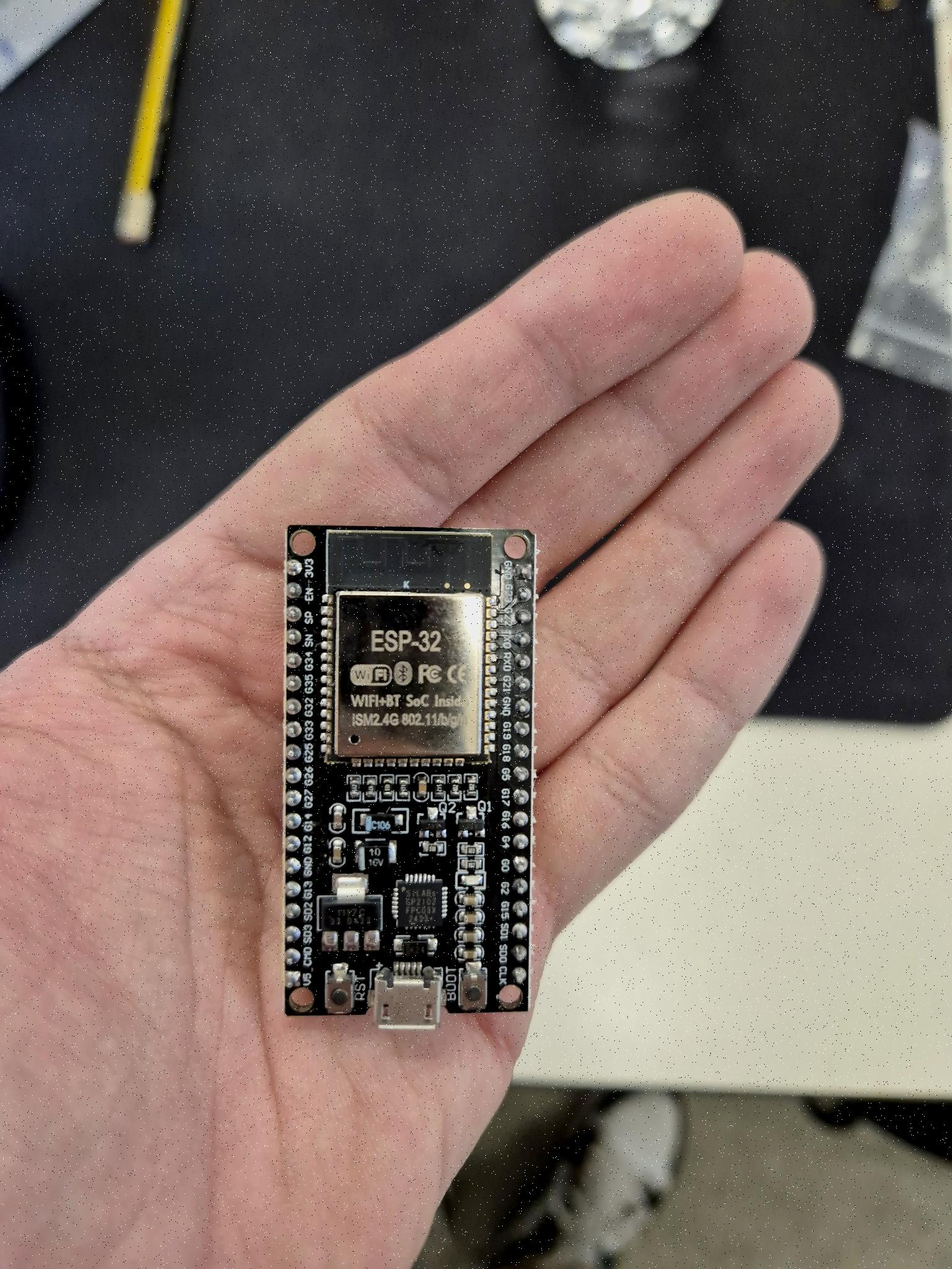arduino-nano-iot-33: (273, 500, 274, 503)
esp32-dev: (289, 530, 532, 1010)
